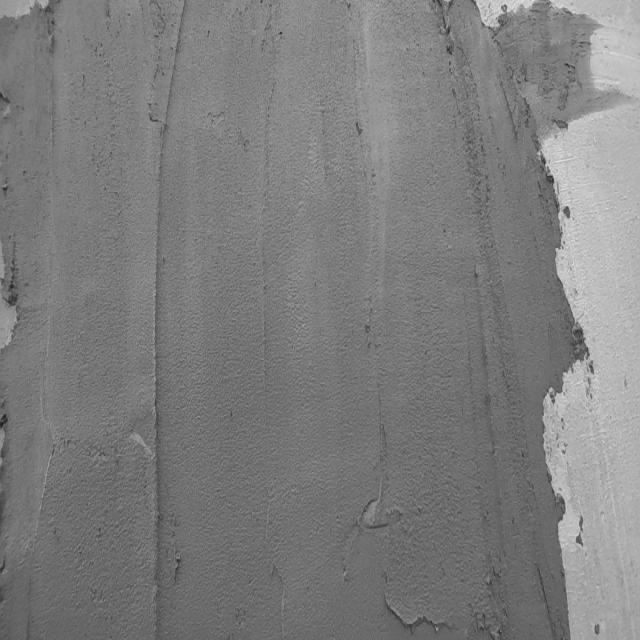trowels marks: (131, 2, 186, 640)
